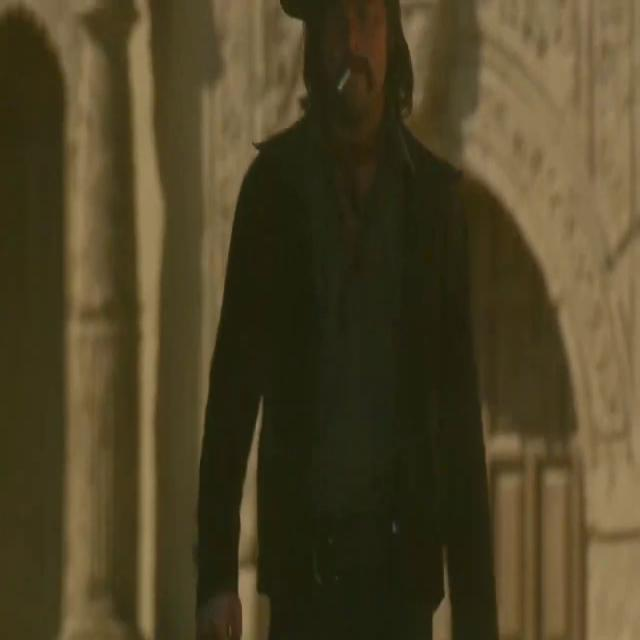Smooking: (329, 64, 354, 105)
